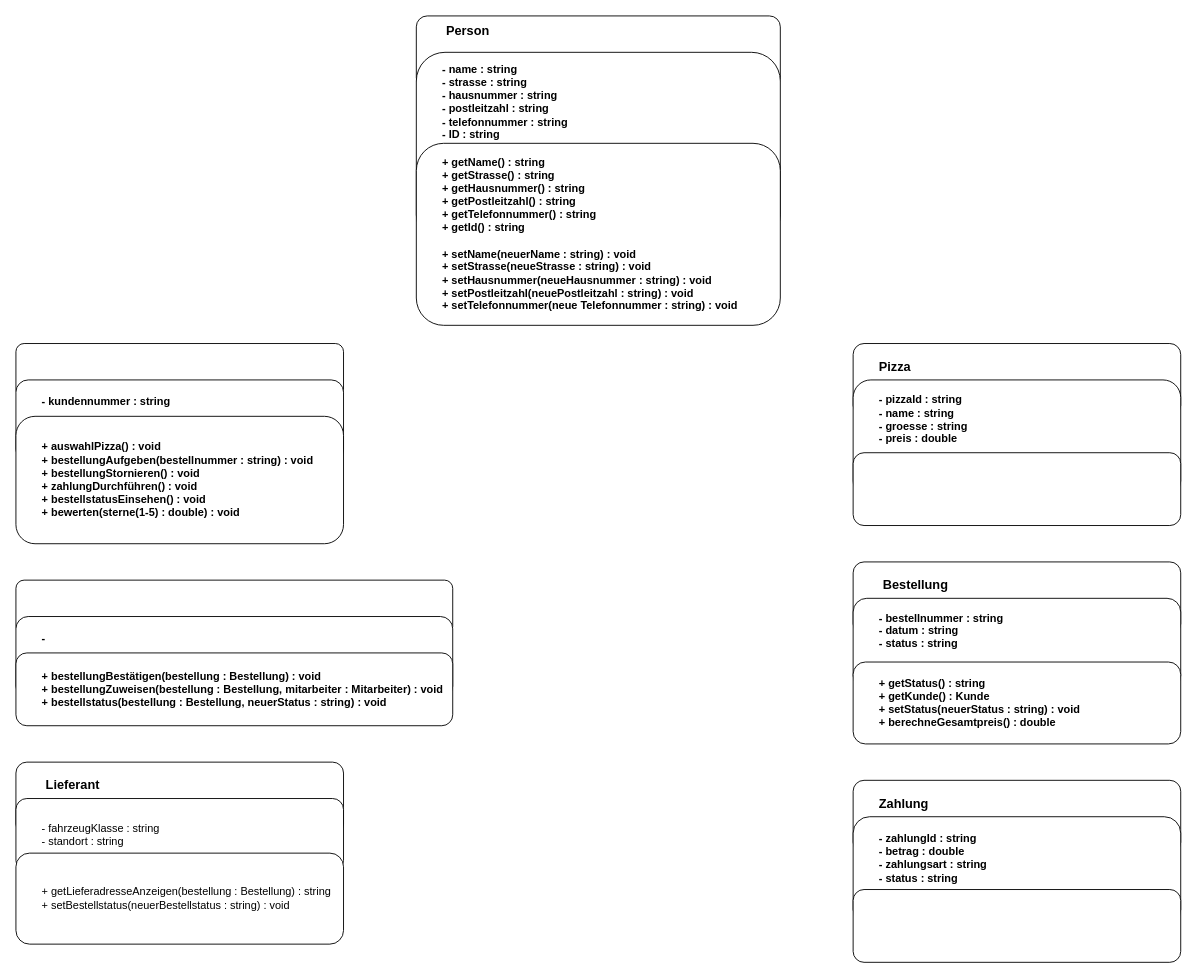
Image size: 1197x978. Some labels were removed from this diagram. Here are the shapes that lost their labels. From the top down, the centre of each, then its label:
At [179,370]: "Kunde".
At [1016,489]: "+ getName() : string + getPreis() : double".
At [234,607]: "Mitarbeiter".
At [1016,925]: "+ zahlungAusfuehren() : void + getStatus() : string".
